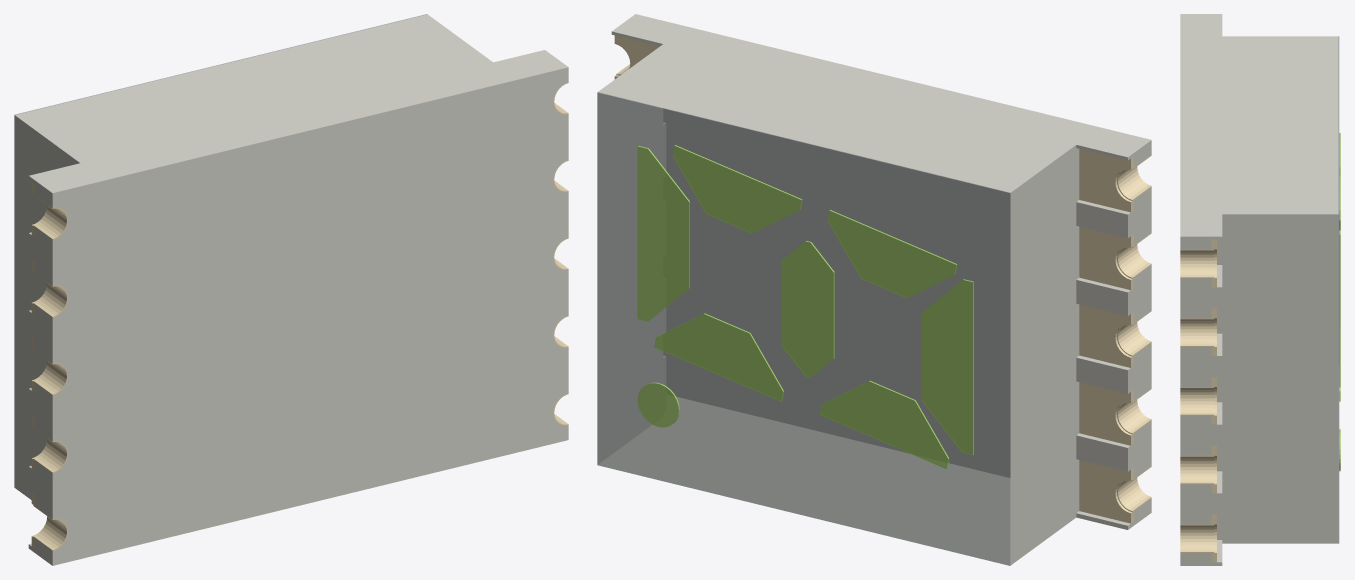
Rendered from KCSC02-123.glb.
The picture shows the model from 3 angles, left to right: view 1: azimuth 30°, elevation 25°; view 2: azimuth 150°, elevation 25°; view 3: azimuth 270°, elevation 25°; orthographic projection. The views are drawn at different scales.
Visible parts, largest first — view 1: Shape_IndexedFaceSet.077, Shape_IndexedFaceSet.063, Shape_IndexedFaceSet.065, Shape_IndexedFaceSet.124, Shape_IndexedFaceSet.118, Shape_IndexedFaceSet.122, Shape_IndexedFaceSet.120, Shape_IndexedFaceSet.053; view 2: Shape_IndexedFaceSet, Shape_IndexedFaceSet.077, Shape_IndexedFaceSet.063, Shape_IndexedFaceSet.064, Shape_IndexedFaceSet.065, Shape_IndexedFaceSet.062, Shape_IndexedFaceSet.061, Shape_IndexedFaceSet.057, Shape_IndexedFaceSet.059, Shape_IndexedFaceSet.054, Shape_IndexedFaceSet.060, Shape_IndexedFaceSet.058 (+21 smaller); view 3: Shape_IndexedFaceSet.063, Shape_IndexedFaceSet.062, Shape_IndexedFaceSet.073, Shape_IndexedFaceSet.071, Shape_IndexedFaceSet.067, Shape_IndexedFaceSet.069, Shape_IndexedFaceSet.075, Shape_IndexedFaceSet.096, Shape_IndexedFaceSet.104, Shape_IndexedFaceSet.108, Shape_IndexedFaceSet.100, Shape_IndexedFaceSet.050 (+17 smaller).
Boxes of the visible parts, <box> form: Shape_IndexedFaceSet.077: <box>52,67,568,565</box>; Shape_IndexedFaceSet.063: <box>16,15,568,193</box>; Shape_IndexedFaceSet.065: <box>15,116,79,499</box>; Shape_IndexedFaceSet.124: <box>28,228,52,284</box>; Shape_IndexedFaceSet.118: <box>28,462,52,517</box>; Shape_IndexedFaceSet.122: <box>28,306,52,361</box>; Shape_IndexedFaceSet.120: <box>28,384,52,439</box>; Shape_IndexedFaceSet.053: <box>14,115,15,488</box>; Shape_IndexedFaceSet: <box>597,93,1010,565</box>; Shape_IndexedFaceSet.077: <box>663,108,1010,477</box>; Shape_IndexedFaceSet.063: <box>599,14,1151,191</box>; Shape_IndexedFaceSet.064: <box>599,397,1010,564</box>; Shape_IndexedFaceSet.065: <box>1011,145,1076,564</box>; Shape_IndexedFaceSet.062: <box>599,92,662,463</box>; Shape_IndexedFaceSet.061: <box>637,146,689,321</box>; Shape_IndexedFaceSet.057: <box>921,280,972,454</box>; Shape_IndexedFaceSet.059: <box>782,241,833,377</box>; Shape_IndexedFaceSet.054: <box>654,314,782,401</box>; Shape_IndexedFaceSet.060: <box>672,145,801,233</box>; Shape_IndexedFaceSet.058: <box>827,210,956,298</box>; Shape_IndexedFaceSet.063: <box>1180,14,1336,236</box>; Shape_IndexedFaceSet.062: <box>1222,214,1336,543</box>; Shape_IndexedFaceSet.073: <box>1222,423,1264,471</box>; Shape_IndexedFaceSet.071: <box>1222,354,1264,402</box>; Shape_IndexedFaceSet.067: <box>1222,217,1264,264</box>; Shape_IndexedFaceSet.069: <box>1222,286,1264,333</box>; Shape_IndexedFaceSet.075: <box>1222,492,1264,539</box>; Shape_IndexedFaceSet.096: <box>1180,279,1222,317</box>; Shape_IndexedFaceSet.104: <box>1180,416,1222,454</box>; Shape_IndexedFaceSet.108: <box>1180,485,1222,523</box>; Shape_IndexedFaceSet.100: <box>1180,348,1222,385</box>; Shape_IndexedFaceSet.050: <box>1336,214,1338,543</box>.
Size of the model in its own units: 3.94 by 2.72 by 1.2.
